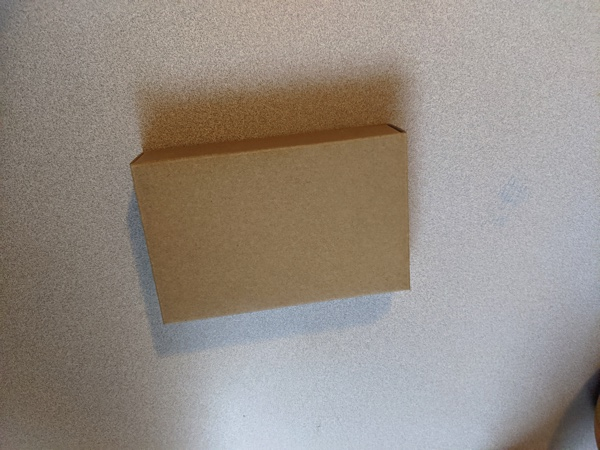cardboard: (93, 96, 445, 344)
